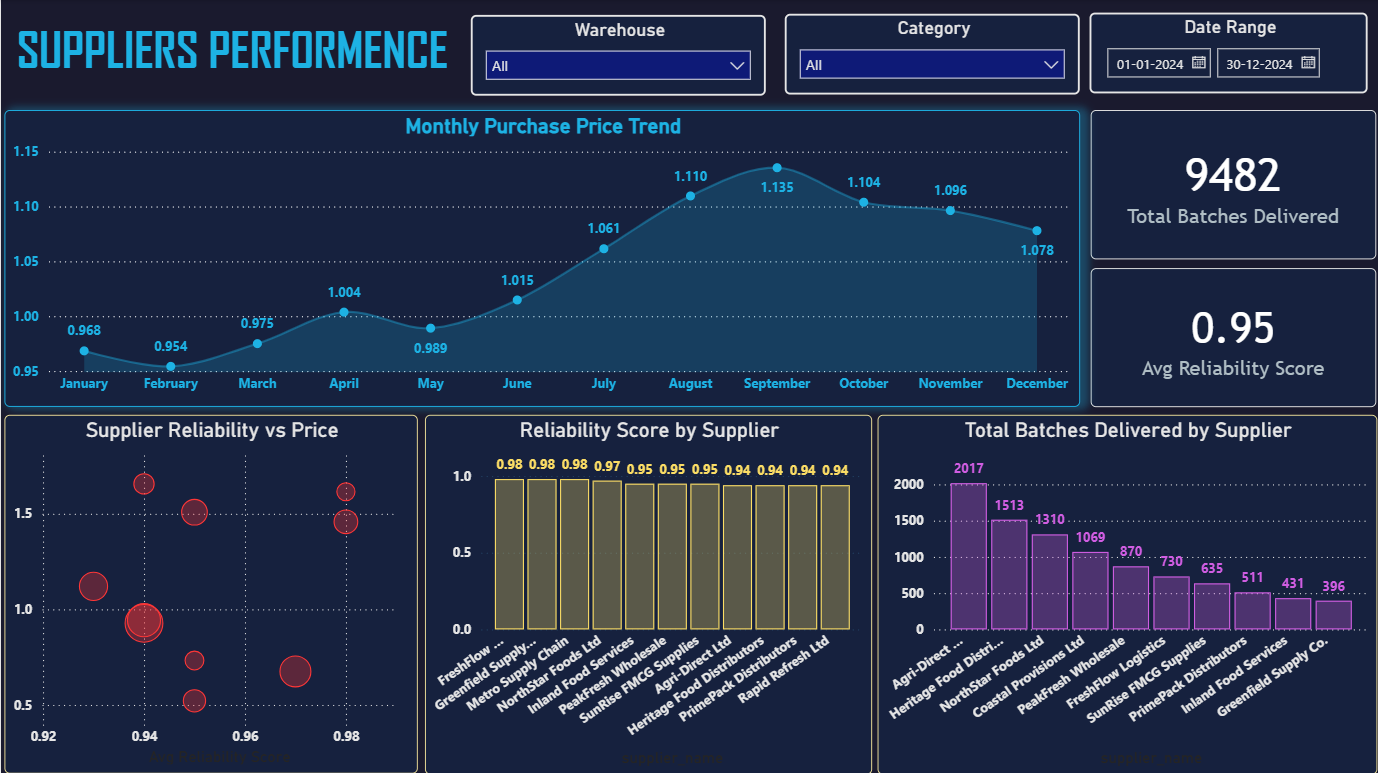

This screenshot's page, from the dashboard's own definition file:
{"tool":"powerbi","page":{"name":"Supplier Performance","canvas":[1280,720],"ordinal":3},"visuals":[{"type":"textbox","box":[9.6,13.8,419.4,72.4],"z":0},{"type":"card","fields":{"Values":["_Measures.Avg Reliability Score"]},"box":[1012.3,249.1,265,128.8],"z":1000},{"type":"card","fields":{"Values":["_Measures.Total Batches Delivered"]},"box":[1012.3,102.2,265,138.4],"z":2000},{"type":"columnChart","title":" Total Batches Delivered by Supplier","fields":{"Category":["dim_suppliers.supplier_name"],"Y":["_Measures.Total Batches Delivered"]},"box":[814.3,385.3,464.1,334.2],"z":3000},{"type":"columnChart","title":"Reliability Score by Supplier","fields":{"Category":["dim_suppliers.supplier_name"],"Y":["_Measures.Avg Reliability Score"]},"box":[393.8,385.3,415.1,334.2],"z":4000},{"type":"lineChart","title":"Monthly Purchase Price Trend","fields":{"Category":["fact_goods_receipts.receipt_date.Variation.Date Hierarchy.Month"],"Y":["_Measures.Avg Purchase Price"]},"box":[3.2,102.2,999.5,275.7],"z":5000},{"type":"scatterChart","title":"Supplier Reliability vs Price","fields":{"X":["_Measures.Avg Reliability Score"],"Y":["_Measures.Avg Purchase Price"],"Size":["_Measures.Total Batches Delivered"],"Category":["dim_suppliers.supplier_name"]},"box":[3.2,385.3,384.3,333.2],"z":6000},{"type":"slicer","title":"Warehouse","fields":{"Values":["dim_warehouses.Warehouse Name"]},"box":[436.2,14.2,274,74.8],"z":7000},{"type":"slicer","title":"Category","fields":{"Values":["dim_products.category"]},"box":[728,13.1,274,74.8],"z":8000},{"type":"slicer","title":"Date Range","fields":{"Values":["fact_sales.sale_date"]},"box":[1011.6,12.1,258.5,74.8],"z":9000}]}

Visuals, with their boxes in screenshot pixels (x1, y1, x2, y2), scaled from the page's 1280x720 canvas onto the 1378x773 screenshot:
textbox: 10 15 462 93
card - _Measures.Avg Reliability Score: 1090 267 1375 406
card - _Measures.Total Batches Delivered: 1090 110 1375 258
" Total Batches Delivered by Supplier" columnChart: 877 414 1376 772
"Reliability Score by Supplier" columnChart: 424 414 871 772
"Monthly Purchase Price Trend" lineChart: 3 110 1079 406
"Supplier Reliability vs Price" scatterChart: 3 414 417 771
"Warehouse" slicer: 470 15 765 96
"Category" slicer: 784 14 1079 94
"Date Range" slicer: 1089 13 1367 93
